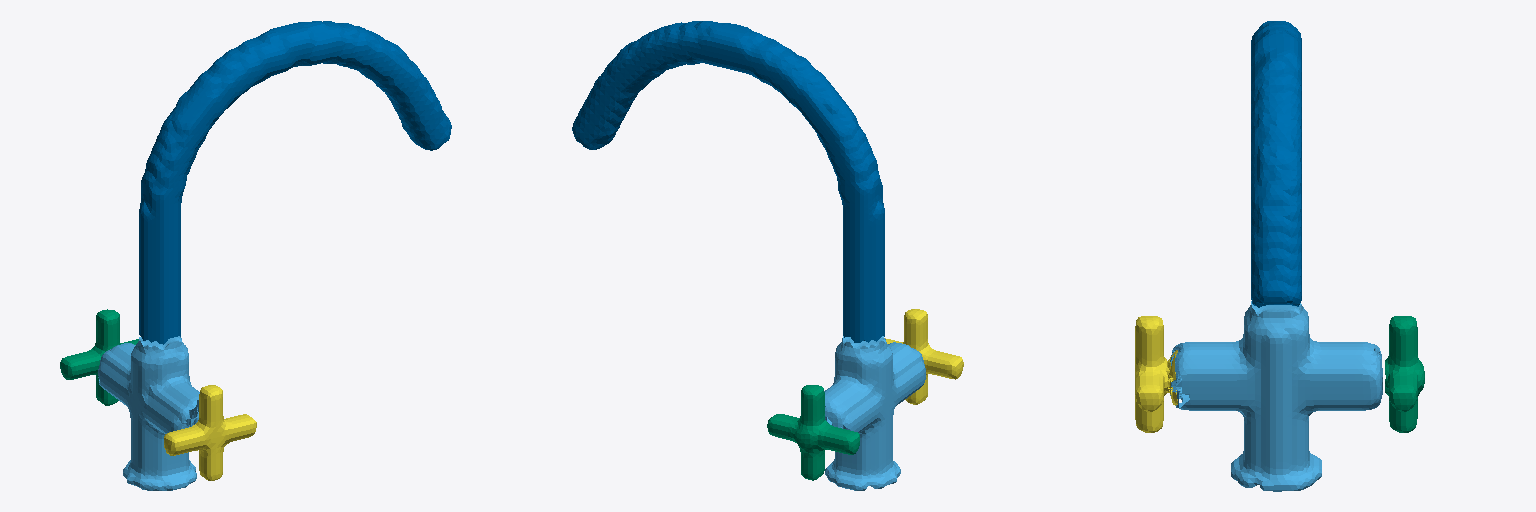
robot.urdf — object:
<?xml version='1.0' encoding='utf-8'?>
<robot name="object">
  <link name="base">
    <inertial>
      <origin xyz="0 0 0" rpy="0 0 0" />
      <mass value="0.0" />
      <inertia ixx="0" ixy="0" ixz="0" iyy="0" iyz="0" izz="0" />
    </inertial>
  </link>
  <link name="link_1">
    <visual>
      <origin xyz="0 0 0" rpy="0 0 0" />
      <geometry>
        <mesh filename="meshes/link_1.stl" />
      </geometry>
    </visual>
    <collision>
      <origin xyz="0 0 0" rpy="0 0 0" />
      <geometry>
        <mesh filename="meshes/link_1.stl" />
      </geometry>
    </collision>
    <inertial>
      <origin xyz="0.187401576 -0.00643554864 -0.438594943" rpy="0 0 0" />
      <mass value="23.1300747" />
      <inertia ixx="0.326292143" ixy="-0.00454564579" ixz="0.000836979213" iyy="0.165267841" iyz="0.00687861294" izz="0.283761181" />
    </inertial>
  </link>
  <link name="link_2">
    <visual>
      <origin xyz="-0.175869532 -0.294052897 0.405940895" rpy="0 0 0" />
      <geometry>
        <mesh filename="meshes/link_2.stl" />
      </geometry>
    </visual>
    <collision>
      <origin xyz="-0.175869532 -0.294052897 0.405940895" rpy="0 0 0" />
      <geometry>
        <mesh filename="meshes/link_2.stl" />
      </geometry>
    </collision>
    <inertial>
      <origin xyz="0.00983647186 0.235634115 0.00333659218" rpy="0 0 0" />
      <mass value="3.21052468" />
      <inertia ixx="0.0498487764" ixy="-0.000213581145" ixz="2.9785961e-07" iyy="0.0315777946" iyz="0.00138883254" izz="0.0498527349" />
    </inertial>
  </link>
  <link name="link_3">
    <visual>
      <origin xyz="-0.203196382 0.285313708 0.40784755" rpy="0 0 0" />
      <geometry>
        <mesh filename="meshes/link_3.stl" />
      </geometry>
    </visual>
    <collision>
      <origin xyz="-0.203196382 0.285313708 0.40784755" rpy="0 0 0" />
      <geometry>
        <mesh filename="meshes/link_3.stl" />
      </geometry>
    </collision>
    <inertial>
      <origin xyz="-0.0205271419 -0.111844294 0.00273155309" rpy="0 0 0" />
      <mass value="3.30558731" />
      <inertia ixx="0.0176928478" ixy="-0.000259273081" ixz="1.69456229e-05" iyy="0.0316036504" iyz="-0.00030752939" izz="0.0177538117" />
    </inertial>
  </link>
  <link name="link_4">
    <visual>
      <origin xyz="-0.184883707 -8.19395484e-05 0.17917893" rpy="0 0 0" />
      <geometry>
        <mesh filename="meshes/link_4.stl" />
      </geometry>
    </visual>
    <collision>
      <origin xyz="-0.184883707 -8.19395484e-05 0.17917893" rpy="0 0 0" />
      <geometry>
        <mesh filename="meshes/link_4.stl" />
      </geometry>
    </collision>
    <inertial>
      <origin xyz="0.41086791 0.00069784592 0.672862242" rpy="0 0 0" />
      <mass value="33.6038661" />
      <inertia ixx="2.55543868" ixy="-0.00299653739" ixz="-1.69591763" iyy="7.6292034" iyz="-0.00312031628" izz="5.162784" />
    </inertial>
  </link>
  <joint name="joint_1_2" type="revolute">
    <parent link="link_1" />
    <child link="link_2" />
    <origin xyz="0.175869532 0.294052897 -0.405940895" rpy="0 0 0" />
    <axis xyz="0.0260056438 -0.999640524 -0.00652144134" />
    <limit lower="-1.57" upper="1.57" effort="10.0" velocity="1.0" />
  </joint>
  <joint name="joint_1_3" type="revolute">
    <parent link="link_1" />
    <child link="link_3" />
    <origin xyz="0.203196382 -0.285313708 -0.40784755" rpy="0 0 0" />
    <axis xyz="-0.11625947 0.993122322 -0.0138488082" />
    <limit lower="-1.57" upper="1.57" effort="10.0" velocity="1.0" />
  </joint>
  <joint name="joint_1_4" type="revolute">
    <parent link="link_1" />
    <child link="link_4" />
    <origin xyz="0.184883707 8.19395484e-05 -0.17917893" rpy="0 0 0" />
    <axis xyz="0.042936658 -0.0118939059 -0.999006996" />
    <limit lower="-1.57" upper="1.57" effort="10.0" velocity="1.0" />
  </joint>
  <joint name="base_to_1" type="fixed">
    <parent link="base" />
    <child link="link_1" />
    <origin xyz="0 0 0" rpy="0 0 0" />
  </joint>
</robot>

--- Facts derived from the render (not from the file) ---
3 views of the same robot in one strip: view 1: azimuth 30°, elevation 25°; view 2: azimuth 150°, elevation 25°; view 3: azimuth 270°, elevation 25° (orthographic).
Model object with 5 links and 4 joints (3 revolute, 1 fixed), rooted at base, posed every joint at zero.
Visible links, largest first — view 1: link_4, link_1, link_3, link_2; view 2: link_4, link_1, link_2, link_3; view 3: link_1, link_4, link_3, link_2.
Boxes of the visible links, left/top/right/bottom form: link_4: left=139, top=21, right=451, bottom=344; link_1: left=98, top=336, right=199, bottom=490; link_3: left=164, top=385, right=256, bottom=480; link_2: left=60, top=309, right=138, bottom=405; link_4: left=572, top=21, right=884, bottom=342; link_1: left=824, top=336, right=925, bottom=490; link_2: left=767, top=385, right=859, bottom=480; link_3: left=885, top=309, right=963, bottom=404; link_1: left=1170, top=301, right=1382, bottom=491; link_4: left=1251, top=21, right=1301, bottom=307; link_3: left=1135, top=316, right=1177, bottom=432; link_2: left=1385, top=316, right=1424, bottom=432.
Bounding box of the posed robot: 1.31 × 0.8085 × 1.57 m (x, y, z).
4 mesh visuals loaded from 4 distinct referenced files (4 binary STL).
